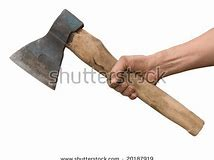axe: (8, 6, 206, 138)
